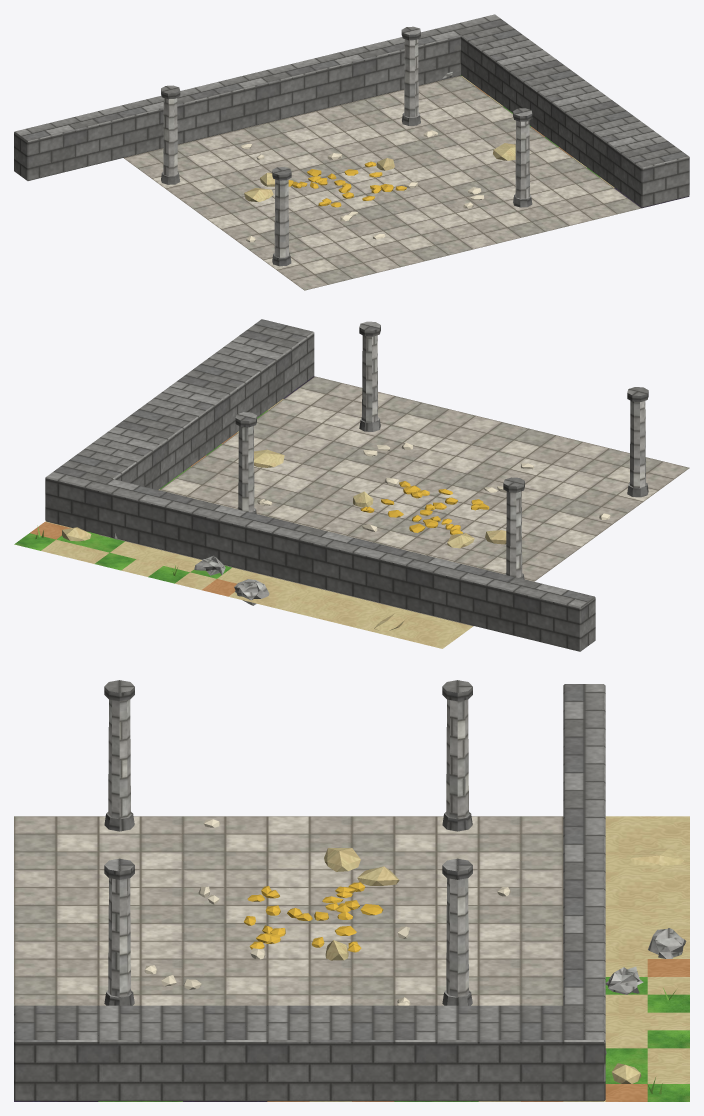
The model's file is chunk_7_21.glb.
3 renders of one model, top to bottom at view 1: azimuth 30°, elevation 25°; view 2: azimuth 150°, elevation 25°; view 3: azimuth 270°, elevation 25°, orthographic. The views are drawn at different scales.
Visible parts, largest first — view 1: chunk_7_21; view 2: chunk_7_21; view 3: chunk_7_21.
Boxes of the visible parts, bbox=[...] form: chunk_7_21: bbox=[14, 14, 689, 290]; chunk_7_21: bbox=[14, 319, 689, 651]; chunk_7_21: bbox=[14, 680, 689, 1101].
Bounding box in the file's own units: 20 × 4.02 × 16.
Materials: 12 (9 with a texture image).
